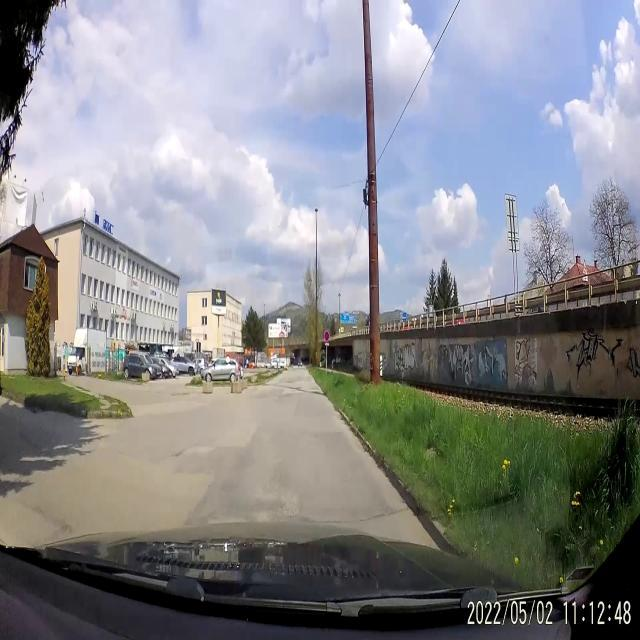Pothole: (166, 441, 192, 466)
